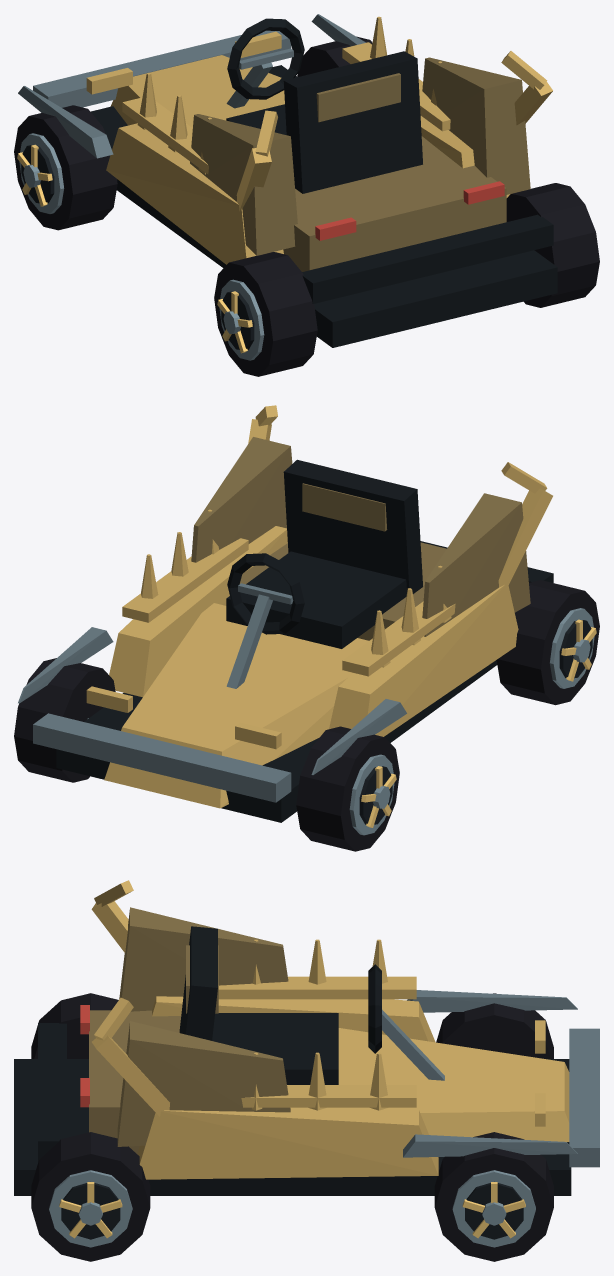
File: kart.glb
3 renders of one model, top to bottom at view 1: azimuth 30°, elevation 25°; view 2: azimuth 150°, elevation 25°; view 3: azimuth 270°, elevation 25°, orthographic.
Visible parts, largest first — view 1: chassis, wheel-rear-left, wheel-front-left, wheel-rear-right, wheel-front-right; view 2: chassis, wheel-front-left, wheel-rear-left, wheel-front-right; view 3: chassis, wheel-rear-right, wheel-front-right, wheel-front-left, wheel-rear-left.
Part boxes in pixels (bbox=[...]): chassis: bbox=[18, 14, 557, 347]; wheel-rear-left: bbox=[214, 252, 317, 376]; wheel-front-left: bbox=[14, 105, 117, 230]; wheel-rear-right: bbox=[506, 183, 599, 307]; wheel-front-right: bbox=[297, 36, 372, 76]; chassis: bbox=[18, 405, 553, 822]; wheel-front-left: bbox=[296, 726, 399, 851]; wheel-rear-left: bbox=[496, 580, 599, 705]; wheel-front-right: bbox=[14, 658, 115, 782]; chassis: bbox=[14, 880, 599, 1195]; wheel-rear-right: bbox=[31, 1132, 150, 1261]; wheel-front-right: bbox=[434, 1132, 553, 1261]; wheel-front-left: bbox=[436, 993, 553, 1058]; wheel-rear-left: bbox=[31, 993, 118, 1058].
Bounding box in the file's own units: 2.15 × 1.38 × 3.05.
